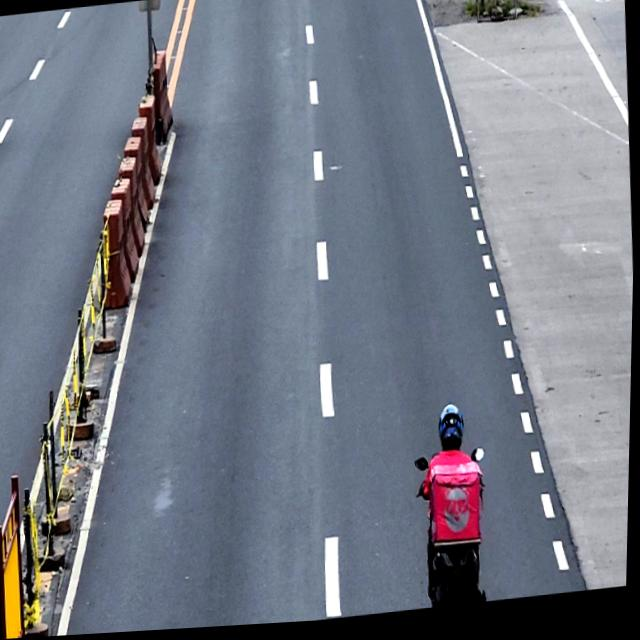Motorcycle: (414, 452, 495, 614)
